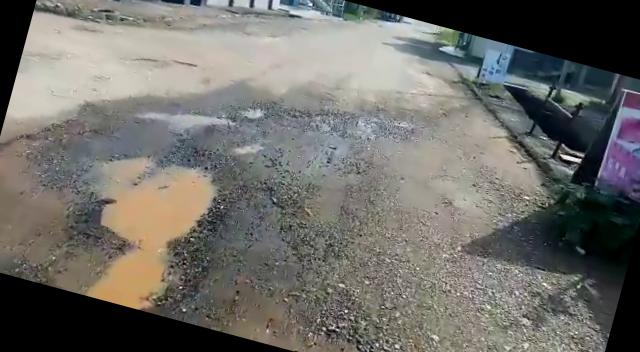pothole: (35, 122, 242, 324)
